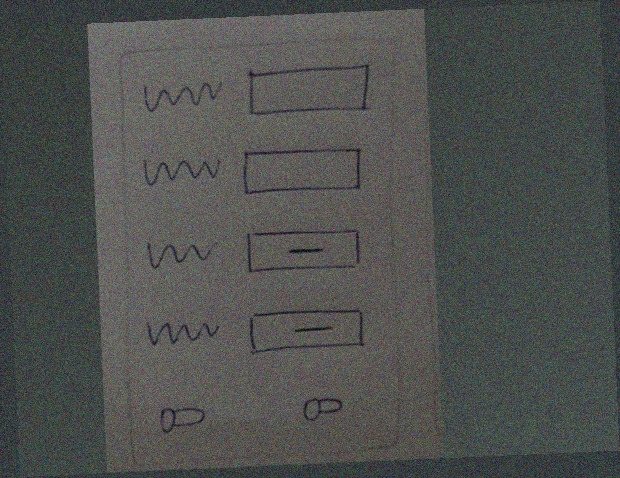button: (244, 302, 370, 361), (243, 222, 366, 281)
switch: (151, 398, 211, 438), (293, 388, 353, 428)
text: (137, 228, 227, 276), (140, 308, 230, 356), (135, 72, 226, 119), (137, 146, 227, 193)
text_input: (237, 137, 370, 203), (242, 61, 375, 126)
